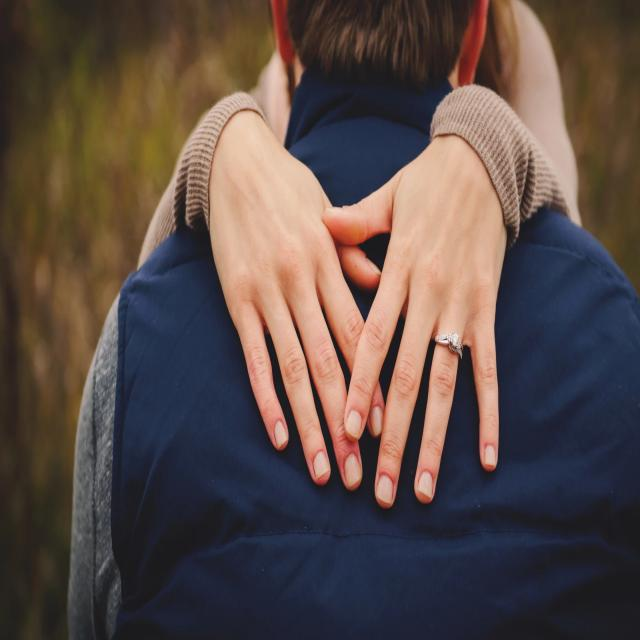Ring: (427, 327, 468, 368)
